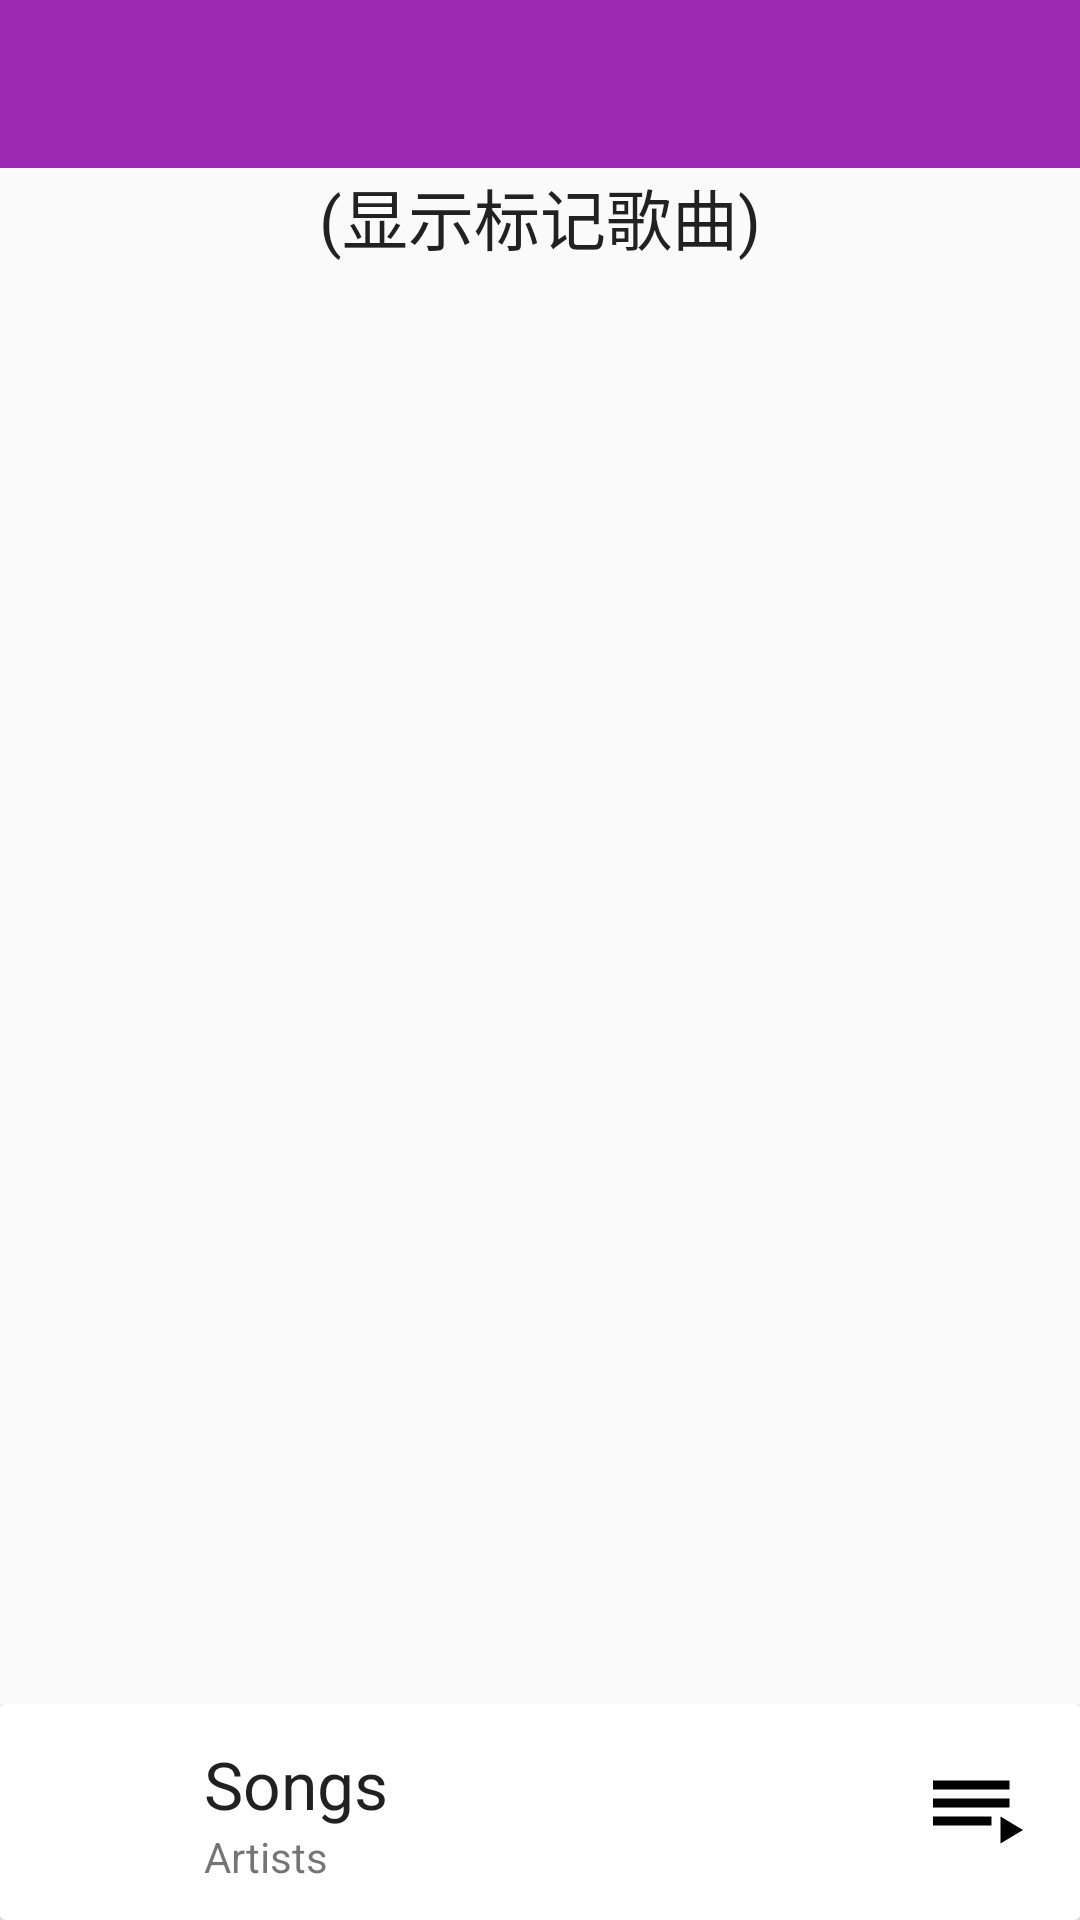

Locate icon controls on the screen. Image size 1080*1920, boxes as (x1, y1, x2, y2).
playlist: (933, 1780, 1023, 1844)
